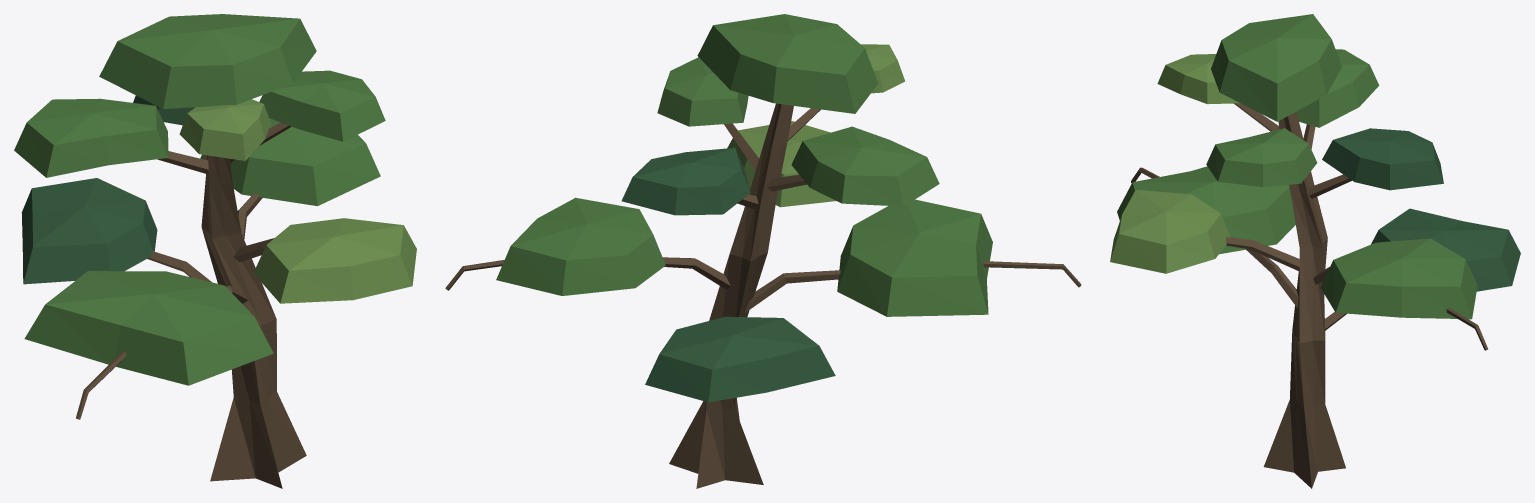
Rendered from sculpted-pine-e45d4f.glb.
3 renders of one model, left to right at view 1: azimuth 30°, elevation 25°; view 2: azimuth 150°, elevation 25°; view 3: azimuth 270°, elevation 25°, orthographic. The views are drawn at different scales.
Visible parts, largest first — view 1: sculpted-pine-e45d4f; view 2: sculpted-pine-e45d4f; view 3: sculpted-pine-e45d4f.
Part boxes in pixels (<box>): sculpted-pine-e45d4f: <box>14,14,416,488</box>; sculpted-pine-e45d4f: <box>445,14,1081,488</box>; sculpted-pine-e45d4f: <box>1110,14,1520,488</box>.
Size of the model in its own units: 3.34 by 3.17 by 2.93.
